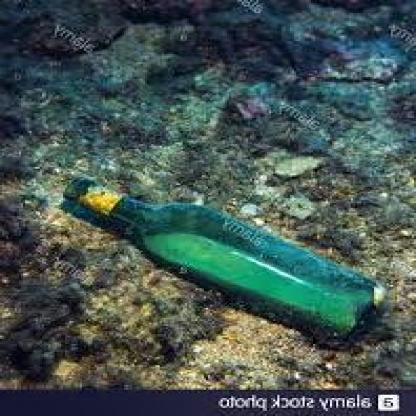gbottle: (65, 175, 378, 347)
